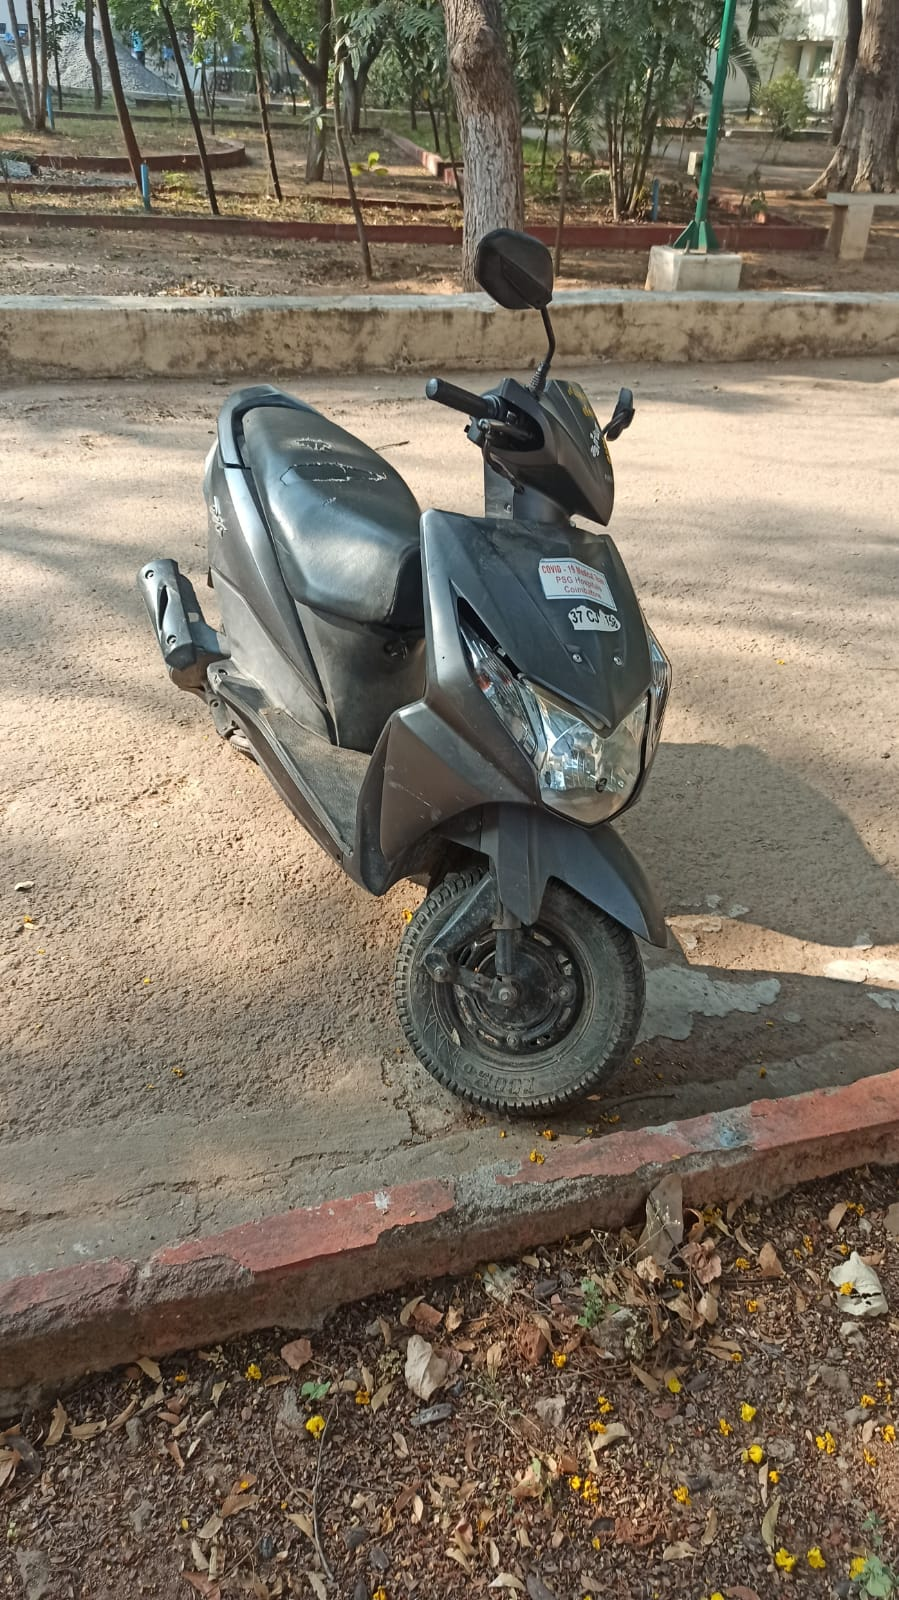scooter: (103, 236, 795, 1177)
